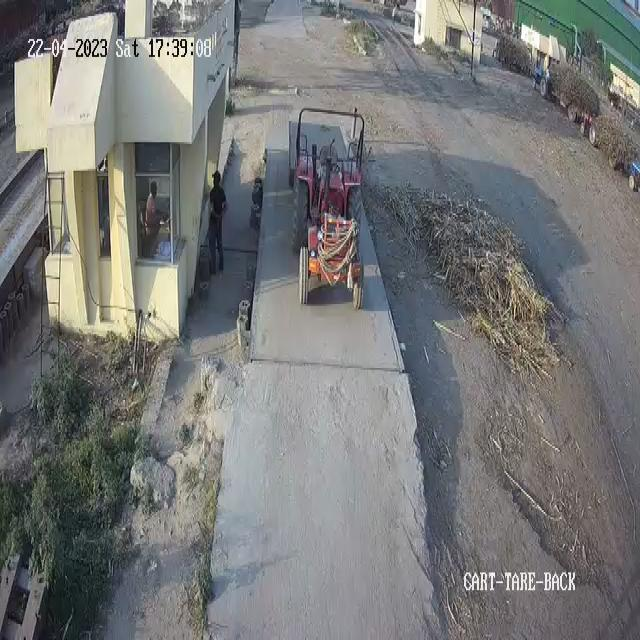Tratores - v5 YOLO V8L 2024-11-13: (291, 150, 368, 318)
